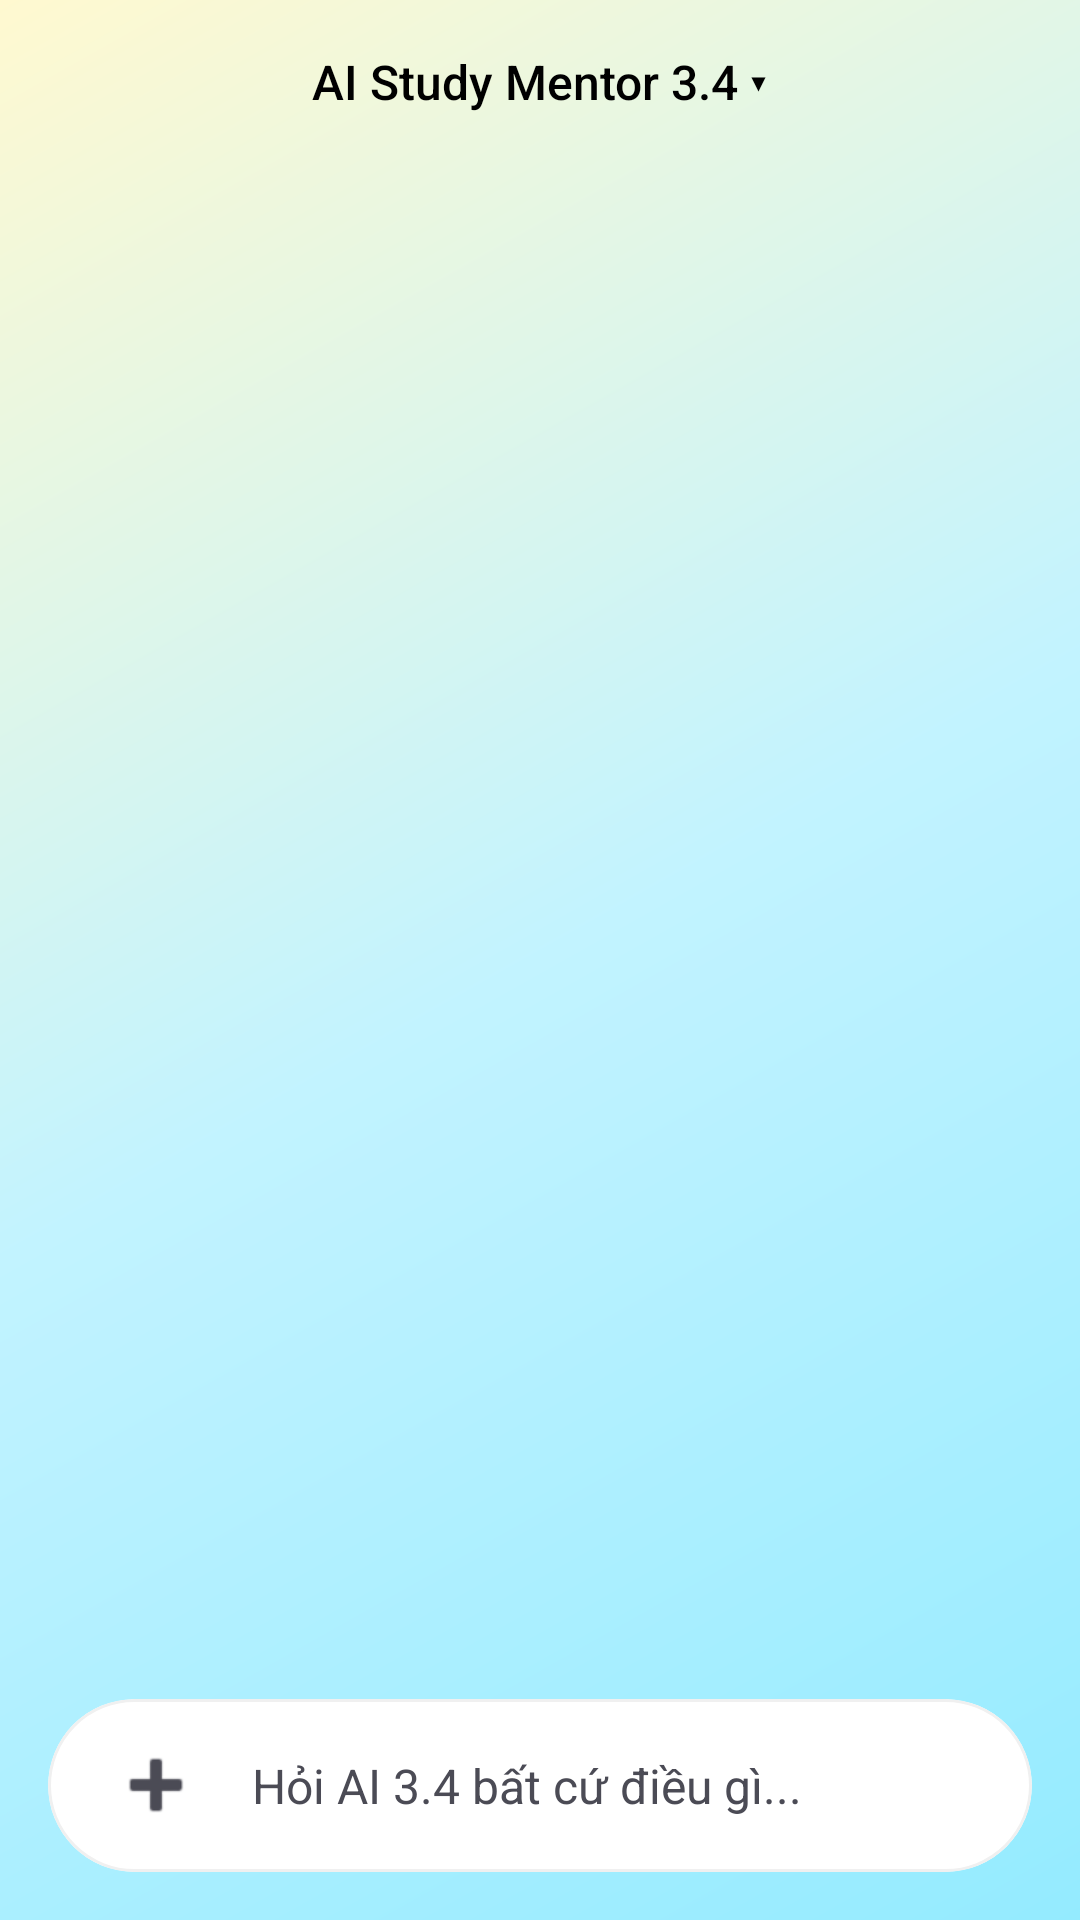

Screen size 1080×1920. Icon name, then its box in pixels as bbox=(x1, y1, x2, y2):
add: bbox=(129, 1758, 183, 1812)
